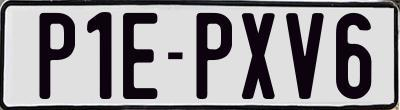1: (87, 12, 118, 103)
6: (336, 10, 372, 100)
E: (121, 13, 158, 100)
P: (39, 13, 77, 105), (195, 12, 232, 103)
V: (285, 12, 328, 103)
X: (242, 13, 276, 100)
